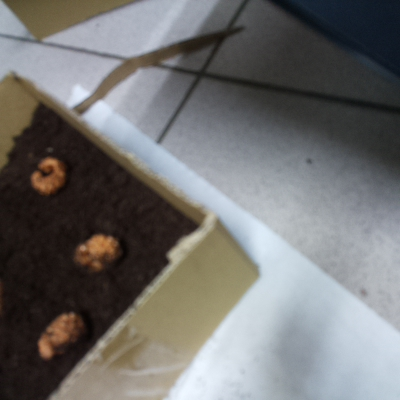eggs: (33, 304, 89, 361), (67, 230, 127, 274), (23, 150, 72, 198)
